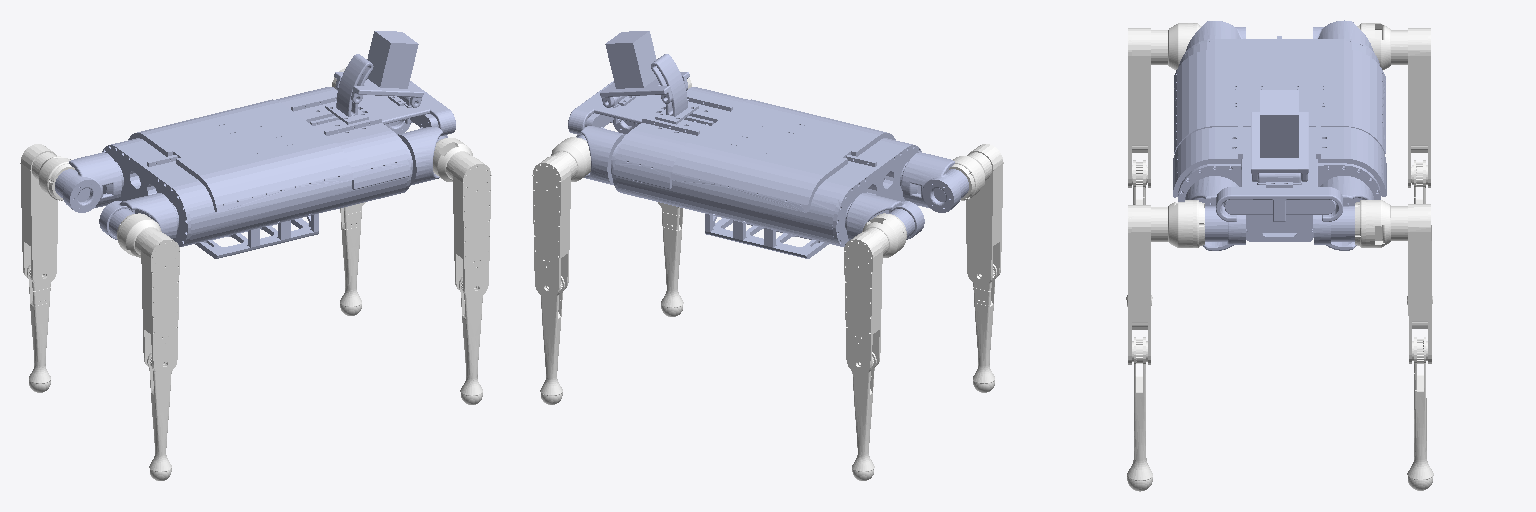
URDF robot description (robotic_dog_urdf_8dof):
<?xml version="1.0" ?>
<!-- This URDF was automatically created by SolidWorks to URDF Exporter! Originally created by Stephen Brawner (brawner@gmail.com) 
     Commit Version: 1.6.0-4-g7f85cfe  Build Version: 1.6.7995.38578
     For more information, please see http://wiki.ros.org/sw_urdf_exporter -->
<robot
  name="robotic_dog_urdf_8dof">
  <link name="base_footprint"/>

  <joint name="base_footprint_joint" type="fixed">
      <origin xyz="0 0 0.001" rpy="0 0 0" />
      <parent link="base_footprint"/>
      <child link="base_link" />
  </joint>
  <link
    name="base_link">
    <inertial>
      <origin
        xyz="0.0324578171199918 -0.00107208054772986 -0.0532934197949659"
        rpy="0 0 0" />
      <mass
        value="9.55580178099991" />
      <inertia
        ixx="0.028878887728372"
        ixy="-5.32734038649637E-05"
        ixz="-9.99548284777576E-05"
        iyy="0.0328205453767607"
        iyz="-2.0005331957631E-05"
        izz="0.0484423164334583" />
    </inertial>
    <visual>
      <origin
        xyz="0 0 0"
        rpy="0 0 0" />
      <geometry>
        <mesh
          filename="package://robotic_dog_urdf_8dof/meshes/base_link.STL" />
      </geometry>
      <material
        name="">
        <color
          rgba="0.792156862745098 0.819607843137255 0.933333333333333 1" />
      </material>
    </visual>
    <collision>
      <origin
        xyz="0 0 0"
        rpy="0 0 0" />
      <geometry>
        <mesh
          filename="package://robotic_dog_urdf_8dof/meshes/base_link_collisional.STL" />
      </geometry>
    </collision>
  </link>
  <link
    name="leg1_upper_link">
    <inertial>
      <origin
        xyz="-0.000328889665845748 0.0769193925083935 -0.0592310111145546"
        rpy="0 0 0" />
      <mass
        value="0.637697073092139" />
      <inertia
        ixx="0.001682415664332"
        ixy="-2.01178366091829E-08"
        ixz="-8.0890527186563E-07"
        iyy="0.00180888301272588"
        iyz="-3.21012746181014E-05"
        izz="0.000232658387311611" />
    </inertial>
    <visual>
      <origin
        xyz="0 0 0"
        rpy="0 0 0" />
      <geometry>
        <mesh
          filename="package://robotic_dog_urdf_8dof/meshes/leg1_upper_link.STL" />
      </geometry>
      <material
        name="">
        <color
          rgba="1 1 1 1" />
      </material>
    </visual>
    <collision>
      <origin
        xyz="0 0 0"
        rpy="0 0 0" />
      <geometry>
        <mesh
          filename="package://robotic_dog_urdf_8dof/meshes/leg1_upper_link_collisional.STL" />
      </geometry>
    </collision>
  </link>
  <joint
    name="leg1_upper_joint"
    type="revolute">
    <origin
      xyz="0.324 0.116499322559436 -0.0669587516936535"
      rpy="0 0 0" />
    <parent
      link="base_link" />
    <child
      link="leg1_upper_link" />
    <axis
      xyz="0 1 0" />
    <limit
      lower="-2.094"
      upper="2.094"
      effort="8"
      velocity="4.19" />
  </joint>
  <link
    name="leg1_lower_link">
    <inertial>
      <origin
        xyz="1.80716266513434E-06 0.000321216376702682 -0.122867335712219"
        rpy="0 0 0" />
      <mass
        value="0.138600072096363" />
      <inertia
        ixx="0.000410120019152843"
        ixy="4.54735361281021E-11"
        ixz="2.11671521332614E-10"
        iyy="0.000415065379224809"
        iyz="-9.4884052073769E-07"
        izz="1.7723509254257E-05" />
    </inertial>
    <visual>
      <origin
        xyz="0 0 0"
        rpy="0 0 0" />
      <geometry>
        <mesh
          filename="package://robotic_dog_urdf_8dof/meshes/leg1_lower_link.STL" />
      </geometry>
      <material
        name="">
        <color
          rgba="1 1 1 1" />
      </material>
    </visual>
    <collision>
      <origin
        xyz="0 0 0"
        rpy="0 0 0" />
      <geometry>
        <mesh
          filename="package://robotic_dog_urdf_8dof/meshes/leg1_lower_link_collisional.STL" />
      </geometry>
    </collision>
  </link>
  <joint
    name="leg1_lower_joint"
    type="revolute">
    <origin
      xyz="0 0.101544682673132 -0.217746819542348"
      rpy="0 0 0" />
    <parent
      link="leg1_upper_link" />
    <child
      link="leg1_lower_link" />
    <axis
      xyz="0 1 0" />
    <limit
      lower="-2.4"
      upper="2.4"
      effort="8"
      velocity="4.19" />
  </joint>
  <link
    name="leg2_upper_link">
    <inertial>
      <origin
        xyz="0.000127800307332776 -0.0766213988151565 -0.0599664662260584"
        rpy="0 0 0" />
      <mass
        value="0.637697073092088" />
      <inertia
        ixx="0.00167741793065014"
        ixy="-3.35293034128317E-09"
        ixz="-2.13123778687523E-06"
        iyy="0.00180852251444854"
        iyz="3.99916830759616E-05"
        izz="0.000238016619270677" />
    </inertial>
    <visual>
      <origin
        xyz="0 0 0"
        rpy="0 0 0" />
      <geometry>
        <mesh
          filename="package://robotic_dog_urdf_8dof/meshes/leg2_upper_link.STL" />
      </geometry>
      <material
        name="">
        <color
          rgba="1 1 1 1" />
      </material>
    </visual>
    <collision>
      <origin
        xyz="0 0 0"
        rpy="0 0 0" />
      <geometry>
        <mesh
          filename="package://robotic_dog_urdf_8dof/meshes/leg2_upper_link_collisional.STL" />
      </geometry>
    </collision>
  </link>
  <joint
    name="leg2_upper_joint"
    type="revolute">
    <origin
      xyz="0.324 -0.116499949318977 -0.0675412498731288"
      rpy="0 0 0" />
    <parent
      link="base_link" />
    <child
      link="leg2_upper_link" />
    <axis
      xyz="0 1 0" />
    <limit
      lower="-2.094"
      upper="2.094"
      effort="8"
      velocity="4.19" />
  </joint>
  <link
    name="leg2_lower_link">
    <inertial>
      <origin
        xyz="-1.80707555090878E-06 0.000293120445839512 -0.122867406862322"
        rpy="0 0 0" />
      <mass
        value="0.138600070454872" />
      <inertia
        ixx="0.000410120014711362"
        ixy="4.64383968889363E-11"
        ixz="-2.11827782414142E-10"
        iyy="0.000415045952434337"
        iyz="2.9354653978298E-06"
        izz="1.7742930568453E-05" />
    </inertial>
    <visual>
      <origin
        xyz="0 0 0"
        rpy="0 0 0" />
      <geometry>
        <mesh
          filename="package://robotic_dog_urdf_8dof/meshes/leg2_lower_link.STL" />
      </geometry>
      <material
        name="">
        <color
          rgba="1 1 1 1" />
      </material>
    </visual>
    <collision>
      <origin
        xyz="0 0 0"
        rpy="0 0 0" />
      <geometry>
        <mesh
          filename="package://robotic_dog_urdf_8dof/meshes/leg2_lower_link_collisional.STL" />
      </geometry>
    </collision>
  </link>
  <joint
    name="leg2_lower_joint"
    type="revolute">
    <origin
      xyz="0 -0.100454686079827 -0.218251817964039"
      rpy="0 0 0" />
    <parent
      link="leg2_upper_link" />
    <child
      link="leg2_lower_link" />
    <axis
      xyz="0 1 0" />
    <limit
      lower="-2.4"
      upper="2.4"
      effort="8"
      velocity="4.19" />
  </joint>
  <link
    name="leg3_upper_link">
    <inertial>
      <origin
        xyz="0.000213744423748441 -0.076771075071646 -0.0592143076585741"
        rpy="0 0 0" />
      <mass
        value="0.63769707309038" />
      <inertia
        ixx="0.00167901538529498"
        ixy="-1.44334103136461E-08"
        ixz="2.95457124567797E-06"
        iyy="0.0018087126560125"
        iyz="3.60274341620652E-05"
        izz="0.000236229023058977" />
    </inertial>
    <visual>
      <origin
        xyz="0 0 0"
        rpy="0 0 0" />
      <geometry>
        <mesh
          filename="package://robotic_dog_urdf_8dof/meshes/leg3_upper_link.STL" />
      </geometry>
      <material
        name="">
        <color
          rgba="1 1 1 1" />
      </material>
    </visual>
    <collision>
      <origin
        xyz="0 0 0"
        rpy="0 0 0" />
      <geometry>
        <mesh
          filename="package://robotic_dog_urdf_8dof/meshes/leg3_upper_link_collisional.STL" />
      </geometry>
    </collision>
  </link>
  <joint
    name="leg3_upper_joint"
    type="revolute">
    <origin
      xyz="-0.324 -0.116500000882996 -0.0675000000006123"
      rpy="0 0 0" />
    <parent
      link="base_link" />
    <child
      link="leg3_upper_link" />
    <axis
      xyz="0 1 0" />
    <limit
      lower="-2.094"
      upper="2.094"
      effort="8"
      velocity="4.19" />
  </joint>
  <link
    name="leg3_lower_link">
    <inertial>
      <origin
        xyz="-1.80751626877029E-06 -1.40505594015405E-05 -0.122867754922063"
        rpy="0 0 0" />
      <mass
        value="0.138600071390485" />
      <inertia
        ixx="0.000410120015739175"
        ixy="4.59990229103003E-11"
        ixz="-2.12414780803217E-10"
        iyy="0.000415058148288933"
        iyz="1.94216353348255E-06"
        izz="1.77307364574072E-05" />
    </inertial>
    <visual>
      <origin
        xyz="0 0 0"
        rpy="0 0 0" />
      <geometry>
        <mesh
          filename="package://robotic_dog_urdf_8dof/meshes/leg3_lower_link.STL" />
      </geometry>
      <material
        name="">
        <color
          rgba="1 1 1 1" />
      </material>
    </visual>
    <collision>
      <origin
        xyz="0 0 0"
        rpy="0 0 0" />
      <geometry>
        <mesh
          filename="package://robotic_dog_urdf_8dof/meshes/leg3_lower_link_collisional.STL" />
      </geometry>
    </collision>
  </link>
  <joint
    name="leg3_lower_joint"
    type="revolute">
    <origin
      xyz="0 -0.101000000000619 -0.217999999999799"
      rpy="0 0 0" />
    <parent
      link="leg3_upper_link" />
    <child
      link="leg3_lower_link" />
    <axis
      xyz="0 1 0" />
    <limit
      lower="-2.4"
      upper="2.4"
      effort="8"
      velocity="4.19" />
  </joint>
  <link
    name="leg4_upper_link">
    <inertial>
      <origin
        xyz="-9.75042667739068E-05 0.0767710750714986 -0.0597856696530003"
        rpy="0 0 0" />
      <mass
        value="0.637697073090724" />
      <inertia
        ixx="0.00167704645928537"
        ixy="-6.65327760560173E-09"
        ixz="1.68413403388964E-06"
        iyy="0.00180871265601245"
        iyz="-3.60656754427788E-05"
        izz="0.000238197949068602" />
    </inertial>
    <visual>
      <origin
        xyz="0 0 0"
        rpy="0 0 0" />
      <geometry>
        <mesh
          filename="package://robotic_dog_urdf_8dof/meshes/leg4_upper_link.STL" />
      </geometry>
      <material
        name="">
        <color
          rgba="1 1 1 1" />
      </material>
    </visual>
    <collision>
      <origin
        xyz="0 0 0"
        rpy="0 0 0" />
      <geometry>
        <mesh
          filename="package://robotic_dog_urdf_8dof/meshes/leg4_upper_link_collisional.STL" />
      </geometry>
    </collision>
  </link>
  <joint
    name="leg4_upper_joint"
    type="revolute">
    <origin
      xyz="-0.324 0.116499999117003 -0.0675000000009629"
      rpy="0 0 0" />
    <parent
      link="base_link" />
    <child
      link="leg4_upper_link" />
    <axis
      xyz="0 1 0" />
    <limit
      lower="-2.094"
      upper="2.094"
      effort="8"
      velocity="4.19" />
  </joint>
  <link
    name="leg4_lower_link">
    <inertial>
      <origin
        xyz="1.80678219541264E-06 1.40454489447328E-05 -0.122867755442078"
        rpy="0 0 0" />
      <mass
        value="0.138600070371376" />
      <inertia
        ixx="0.000410120013926268"
        ixy="4.58923722545058E-11"
        ixz="2.10488295534875E-10"
        iyy="0.000415058145505495"
        iyz="-1.94219086793343E-06"
        izz="1.77307368033845E-05" />
    </inertial>
    <visual>
      <origin
        xyz="0 0 0"
        rpy="0 0 0" />
      <geometry>
        <mesh
          filename="package://robotic_dog_urdf_8dof/meshes/leg4_lower_link.STL" />
      </geometry>
      <material
        name="">
        <color
          rgba="1 1 1 1" />
      </material>
    </visual>
    <collision>
      <origin
        xyz="0 0 0"
        rpy="0 0 0" />
      <geometry>
        <mesh
          filename="package://robotic_dog_urdf_8dof/meshes/leg4_lower_link_collisional.STL" />
      </geometry>
    </collision>
  </link>
  <joint
    name="leg4_lower_joint"
    type="revolute">
    <origin
      xyz="0 0.101 -0.218"
      rpy="0 0 0" />
    <parent
      link="leg4_upper_link" />
    <child
      link="leg4_lower_link" />
    <axis
      xyz="0 1 0" />
    <limit
      lower="-2.4"
      upper="2.4"
      effort="8"
      velocity="4.19" />
  </joint>
  <link
    name="lidar_link">
  </link>
  <joint
    name="lidar_joint"
    type="fixed">
    <origin
      xyz="0.284282580961245 9.01880488845888E-05 0.0962574459982149"
      rpy="0 0.1745 0" />
      <!-- 10 degrees pitch, differs from visual model -->
    <parent
      link="base_link" />
    <child
      link="lidar_link" />
  </joint>
  <link
    name="camera_link">
  </link>
  <joint
    name="camera_joint"
    type="fixed">
    <origin
      xyz="0.352482816608291 0.000734336789502524 -0.0246227904334168"
      rpy="0 0 0" />
    <parent
      link="base_link" />
    <child
      link="camera_link" />
  </joint>
</robot>

--- What the picture shows (computed from the rendered views, not written in the file) ---
Views: 3 orthographic renders of the robot side by side, from view 1: azimuth 30°, elevation 25°; view 2: azimuth 150°, elevation 25°; view 3: azimuth 270°, elevation 25°.
Robot: robotic_dog_urdf_8dof — 12 links, 11 joints (8 revolute, 3 fixed); root link base_footprint; default pose: every joint at zero.
Links seen in each view (by area): view 1: base_link, leg3_upper_link, leg2_upper_link, leg4_upper_link, leg3_lower_link, leg4_lower_link, leg2_lower_link, leg1_lower_link; view 2: base_link, leg4_upper_link, leg1_upper_link, leg3_upper_link, leg3_lower_link, leg4_lower_link, leg1_lower_link, leg2_lower_link; view 3: base_link, leg1_upper_link, leg2_upper_link, leg3_upper_link, leg4_upper_link, leg1_lower_link, leg2_lower_link.
Boxes of the visible links, <box> form: base_link: <box>55,31,455,258</box>; leg3_upper_link: <box>117,213,179,374</box>; leg2_upper_link: <box>433,138,491,298</box>; leg4_upper_link: <box>20,144,74,286</box>; leg3_lower_link: <box>147,352,171,480</box>; leg4_lower_link: <box>27,264,50,392</box>; leg2_lower_link: <box>459,276,482,404</box>; leg1_lower_link: <box>340,207,361,315</box>; base_link: <box>568,31,968,258</box>; leg4_upper_link: <box>844,213,906,374</box>; leg1_upper_link: <box>532,137,590,298</box>; leg3_upper_link: <box>949,144,1003,285</box>; leg3_lower_link: <box>973,264,996,392</box>; leg4_lower_link: <box>852,352,876,480</box>; leg1_lower_link: <box>540,276,564,404</box>; leg2_lower_link: <box>661,207,683,316</box>; base_link: <box>1173,20,1386,250</box>; leg1_upper_link: <box>1355,200,1431,363</box>; leg2_upper_link: <box>1128,200,1204,364</box>; leg3_upper_link: <box>1128,23,1201,187</box>; leg4_upper_link: <box>1357,23,1430,187</box>; leg1_lower_link: <box>1407,337,1433,490</box>; leg2_lower_link: <box>1127,337,1152,491</box>.
Bounding box of the posed robot: 0.7231 × 0.4774 × 0.6572 m (x, y, z).
Meshes: 9 distinct files referenced, 9 mesh visuals loaded (9 binary STL).
